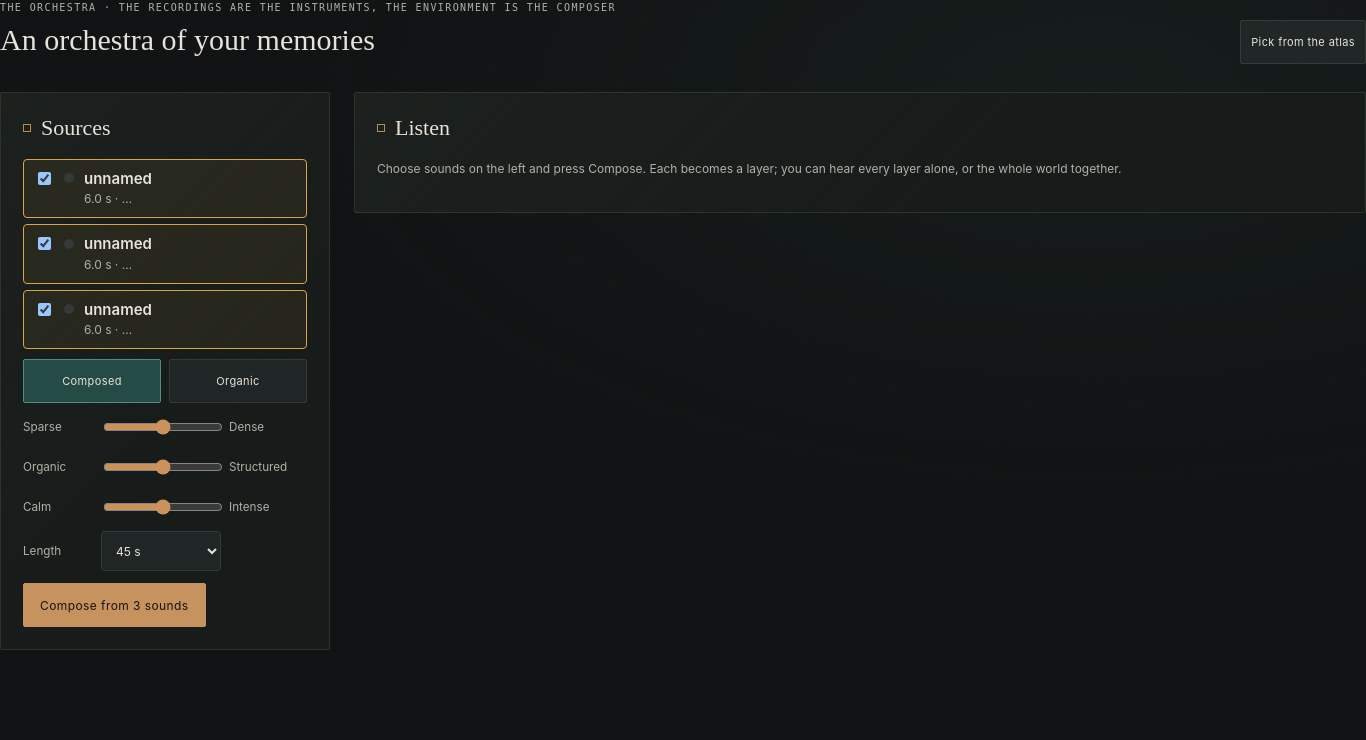
Test: arrangement modes › composes in Composed mode by default and lets the player switch to Organic
The image size is (1366, 740).
What coordinates should you click on to do the following:
click the button "Organic"
I would click on:
 (238, 381)
Its box is [169,359,307,403].
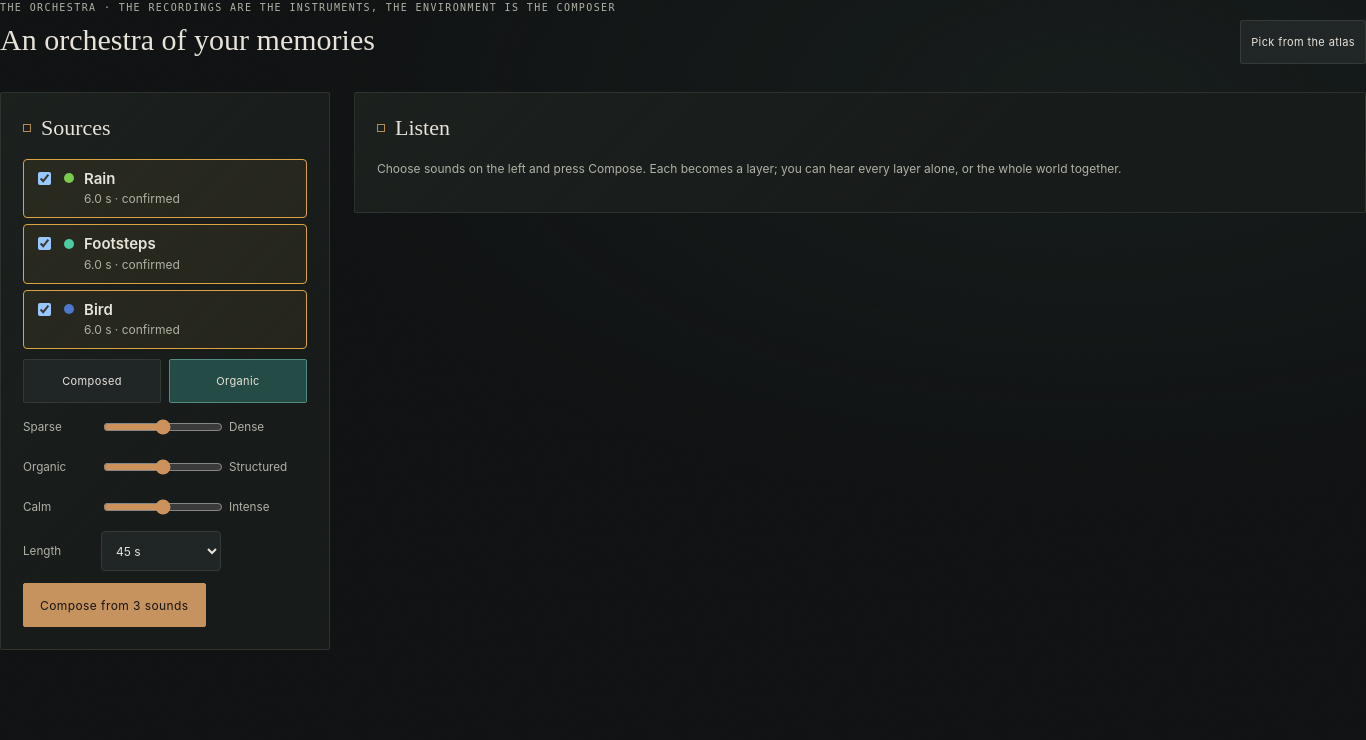
expect the button "Organic" is pressed: met, box [169,359,307,403]
expect the button "Composed" is not pressed: met, box [23,359,161,403]
What coordinates should you click on to do the following:
click the button "Compose from 3 sounds"
I would click on:
 (114, 605)
Its box is [23,583,206,627].
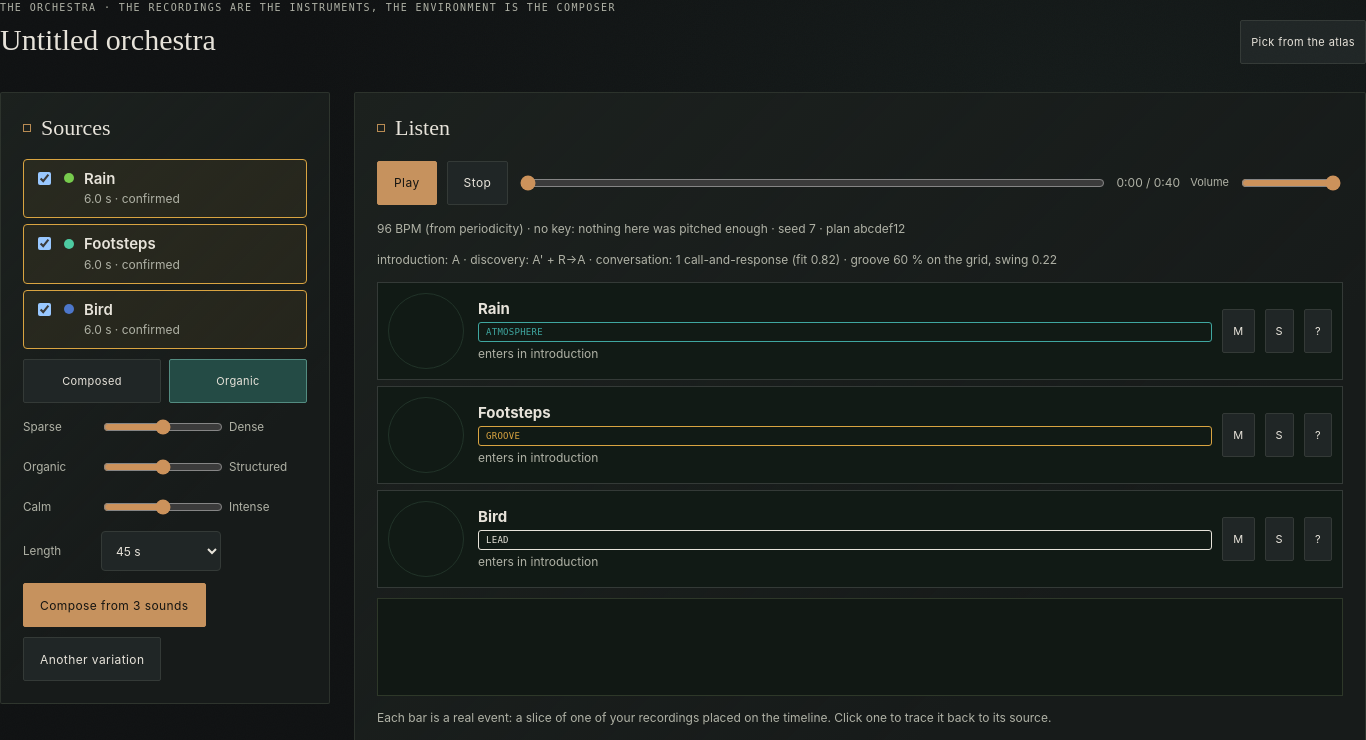
expect the button "Play" is shown: met, box [377,160,437,204]
